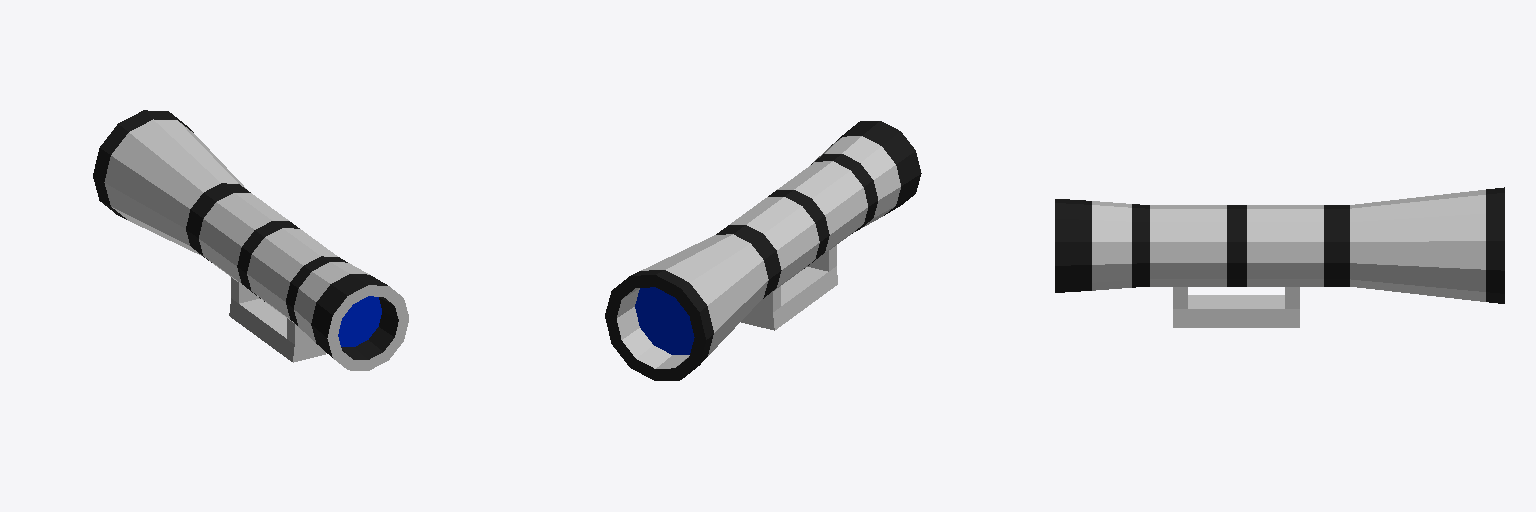
Rendered from marksman_scope.obj.
The picture shows the model from 3 angles: view 1: azimuth 30°, elevation 25°; view 2: azimuth 150°, elevation 25°; view 3: azimuth 270°, elevation 25°; orthographic projection.
Parts seen in each view (by area): view 1: Cube_Cube.002; view 2: Cube_Cube.002; view 3: Cube_Cube.002.
Boxes of the visible parts, <box> form: Cube_Cube.002: <box>93,110,408,370</box>; Cube_Cube.002: <box>605,121,921,380</box>; Cube_Cube.002: <box>1055,187,1504,327</box>.
Bounding box in the file's own units: 0.1013 × 0.1206 × 0.3882.